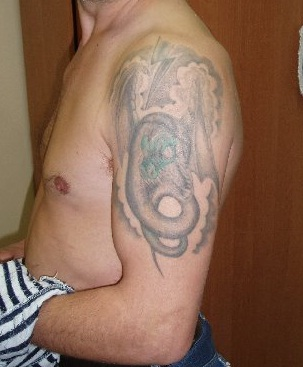tatu7_zmeya: (110, 96, 211, 273)
